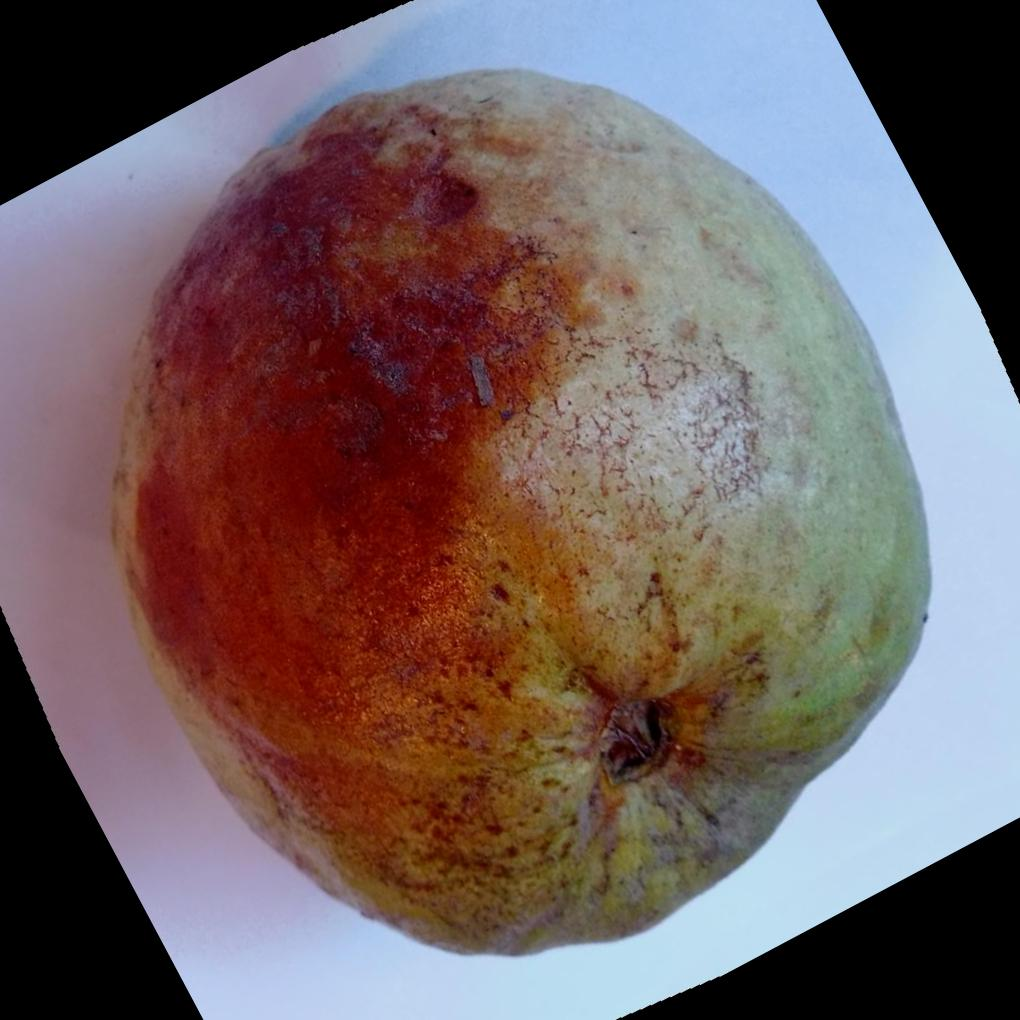FreshOrange: (110, 63, 937, 958)
